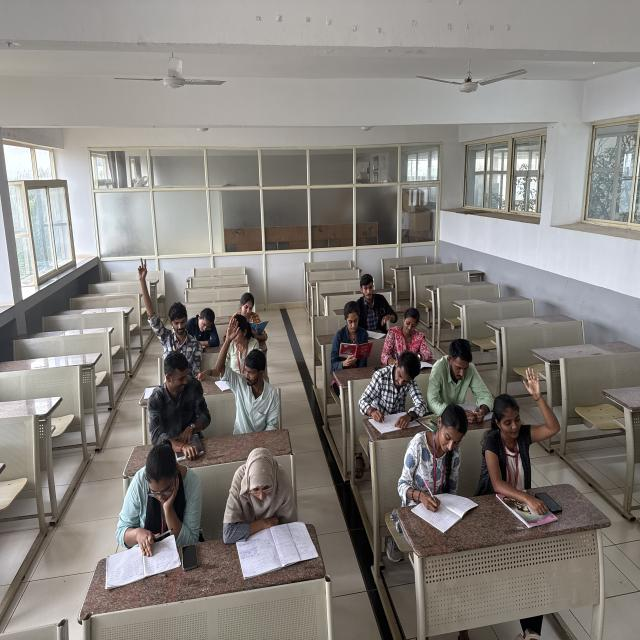Hand Rising: (478, 364, 564, 504), (214, 312, 280, 436), (134, 255, 202, 369)
Reading: (97, 438, 209, 588), (222, 442, 316, 565), (426, 335, 498, 419), (327, 298, 375, 376), (228, 288, 274, 336)
Writing: (395, 399, 482, 544), (357, 350, 434, 440), (382, 307, 434, 375), (356, 272, 394, 344), (186, 306, 222, 352)
